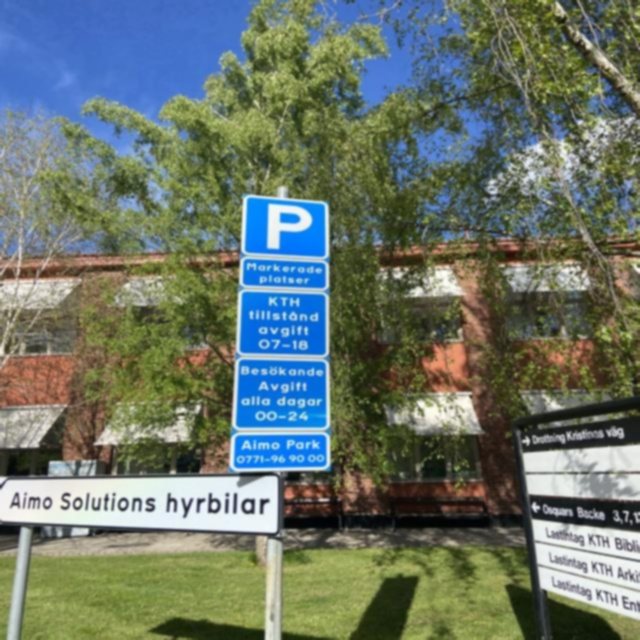P-skylt: (242, 196, 330, 260)
